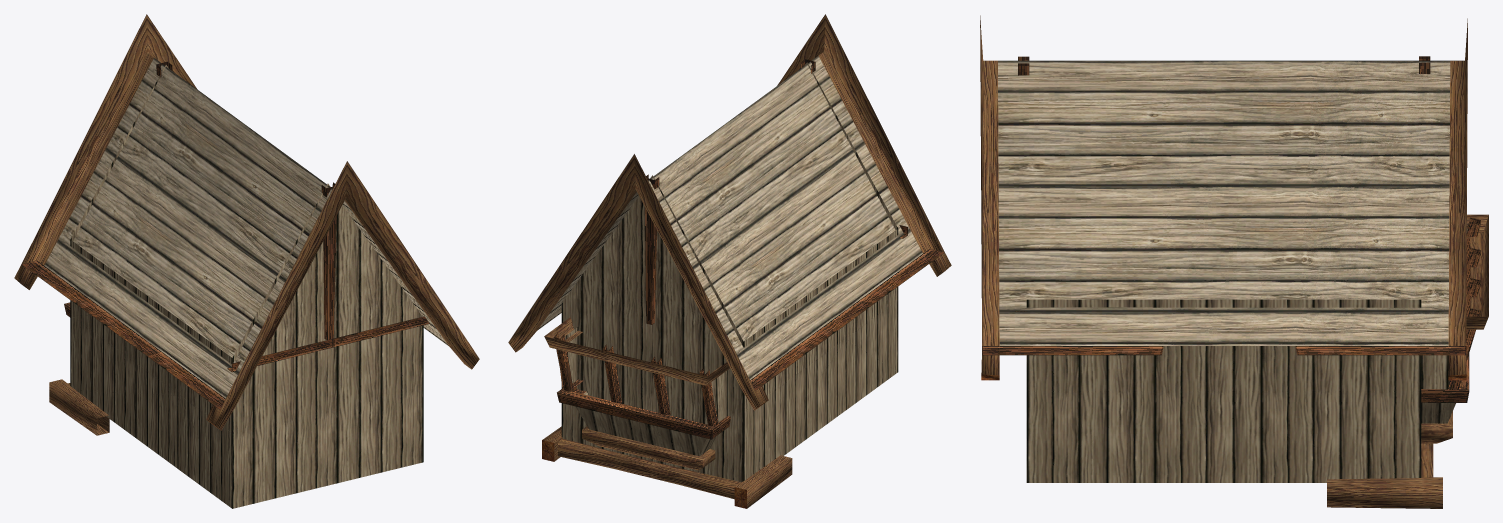
File: LAKETOWN_EXTERIOR_PS_LT_TOPHOUSE7464__GX.obj
The picture shows the model from 3 angles, left to right: view 1: azimuth 30°, elevation 25°; view 2: azimuth 150°, elevation 25°; view 3: azimuth 270°, elevation 25°; orthographic projection. The views are drawn at different scales.
Parts seen in each view (by area): view 1: opHouse7464__GX; view 2: opHouse7464__GX; view 3: opHouse7464__GX.
Part boxes in pixels (left/top/right/bottom): opHouse7464__GX: left=14, top=14, right=479, bottom=508; opHouse7464__GX: left=508, top=14, right=951, bottom=508; opHouse7464__GX: left=980, top=15, right=1488, bottom=508.
Bounding box in the file's own units: 627 × 798 × 853.
